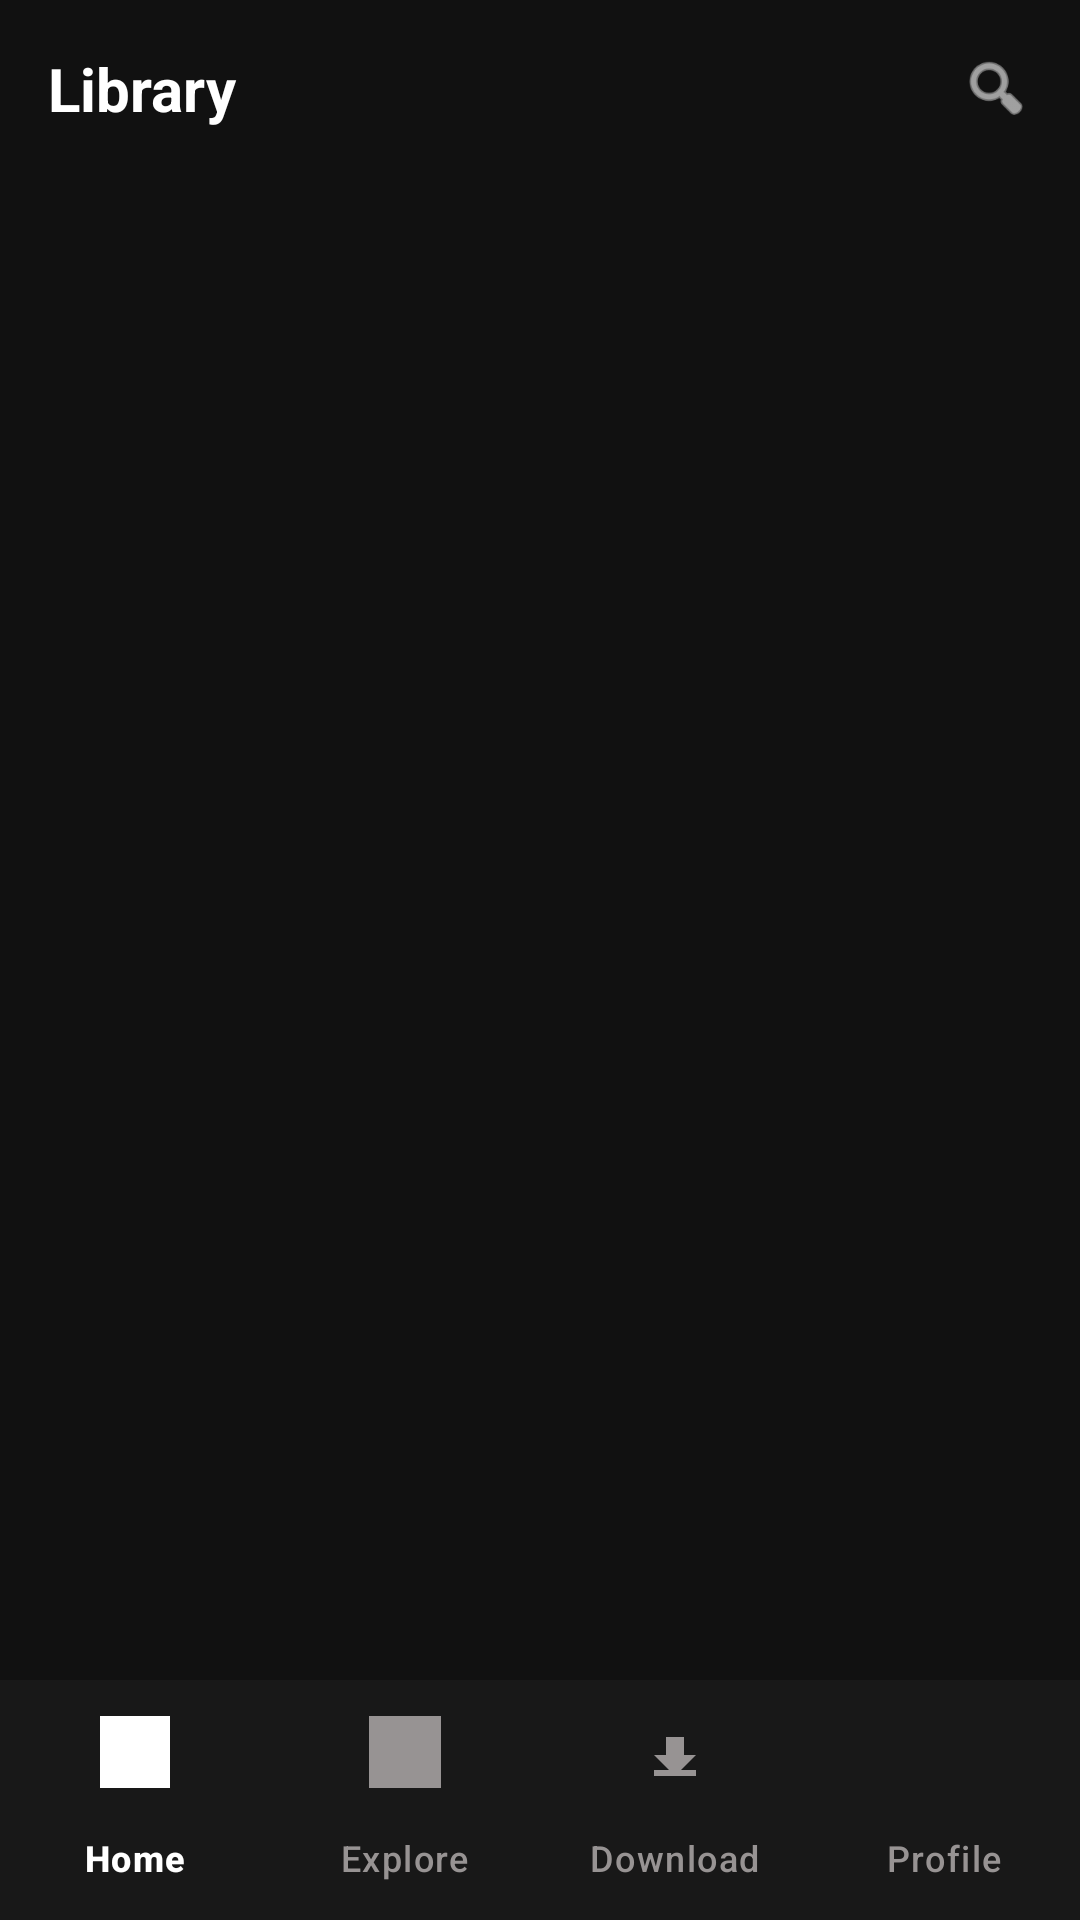

Where to tap for icons on this 1080*1920 app screen, as [x,y]:
search: [996,88]
